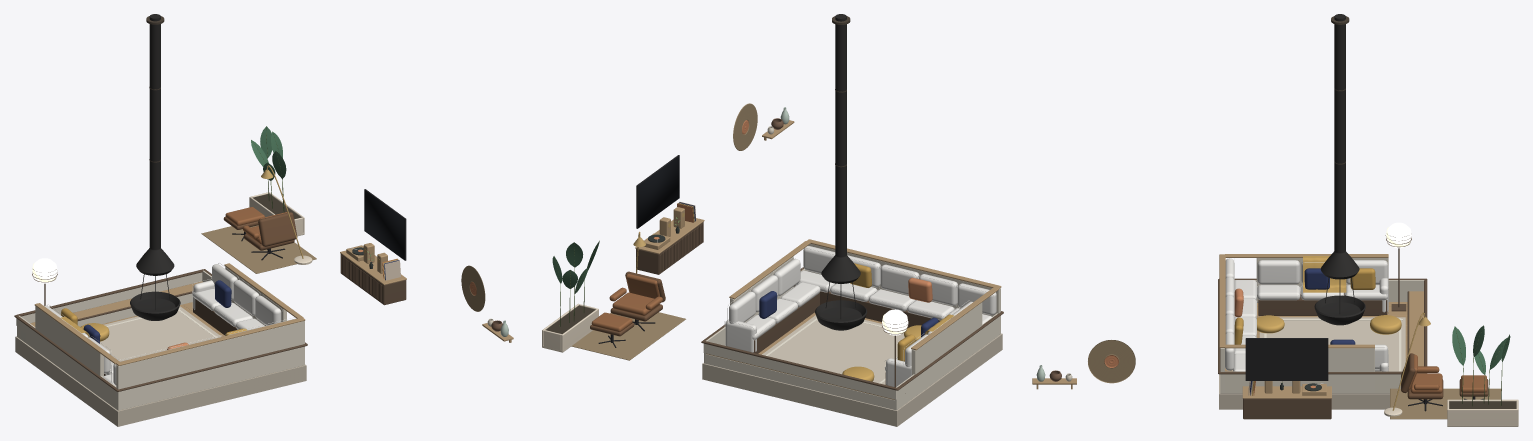
The model's file is room-lounge.glb.
The picture shows the model from 3 angles, left to right: view 1: azimuth 30°, elevation 25°; view 2: azimuth 150°, elevation 25°; view 3: azimuth 270°, elevation 25°; orthographic projection. The views are drawn at different scales.
Parts seen in each view (by area): view 1: lounge__chalk limestone, lounge_placeholder_living-sofa, lounge__warm cut stone, lounge__pale oak, lounge__oatmeal wool textile, lounge__honey ash, lounge__blackened steel flue, lounge_placeholder_living-fireplace, lounge_placeholder_living-eames-lounge, lounge__woven jute, lounge__tv black glass, lounge_refined_botanical__interior Strelitzia broadleaf (+3 smaller); view 2: lounge_placeholder_living-sofa, lounge__chalk limestone, lounge__warm cut stone, lounge__oatmeal wool textile, lounge__pale oak, lounge_placeholder_living-eames-lounge, lounge__honey ash, lounge__blackened steel flue, lounge_placeholder_living-fireplace, lounge__woven jute, lounge__tv black glass, lounge_refined_botanical__honed travertine (+5 smaller); view 3: lounge_placeholder_living-sofa, lounge__chalk limestone, lounge__pale oak, lounge__matte black device, lounge__honey ash, lounge__oatmeal wool textile, lounge__blackened steel flue, lounge_placeholder_living-fireplace, lounge_placeholder_living-eames-lounge, lounge__woven jute, lounge_refined_botanical__honed travertine, lounge_decor woven jute (+5 smaller).
Part boxes in pixels (x1=…): lounge__chalk limestone: x1=16, y1=266, x2=304, y2=410; lounge_placeholder_living-sofa: x1=44, y1=263, x2=295, y2=385; lounge__warm cut stone: x1=15, y1=336, x2=306, y2=426; lounge__pale oak: x1=30, y1=243, x2=406, y2=365; lounge__oatmeal wool textile: x1=100, y1=306, x2=221, y2=361; lounge__honey ash: x1=14, y1=254, x2=406, y2=391; lounge__blackened steel flue: x1=149, y1=14, x2=160, y2=234; lounge_placeholder_living-fireplace: x1=130, y1=232, x2=180, y2=320; lounge_placeholder_living-eames-lounge: x1=223, y1=207, x2=297, y2=260; lounge__woven jute: x1=201, y1=225, x2=316, y2=273; lounge__tv black glass: x1=364, y1=190, x2=404, y2=259; lounge_refined_botanical__interior Strelitzia broadleaf: x1=251, y1=126, x2=286, y2=180; lounge_placeholder_living-sofa: x1=724, y1=246, x2=996, y2=386; lounge__chalk limestone: x1=703, y1=243, x2=1000, y2=410; lounge__warm cut stone: x1=702, y1=333, x2=1002, y2=426; lounge__oatmeal wool textile: x1=762, y1=315, x2=904, y2=384; lounge__pale oak: x1=635, y1=207, x2=1001, y2=399; lounge_placeholder_living-eames-lounge: x1=590, y1=271, x2=665, y2=347; lounge__honey ash: x1=636, y1=222, x2=1003, y2=393; lounge__blackened steel flue: x1=835, y1=14, x2=846, y2=241; lounge_placeholder_living-fireplace: x1=815, y1=239, x2=867, y2=330; lounge__woven jute: x1=571, y1=312, x2=685, y2=360; lounge__tv black glass: x1=638, y1=156, x2=679, y2=228; lounge_refined_botanical__honed travertine: x1=542, y1=303, x2=598, y2=352; lounge_placeholder_living-sofa: x1=1225, y1=256, x2=1388, y2=371; lounge__chalk limestone: x1=1220, y1=258, x2=1424, y2=393; lounge__pale oak: x1=1219, y1=254, x2=1423, y2=398; lounge__matte black device: x1=1245, y1=338, x2=1328, y2=380; lounge__honey ash: x1=1218, y1=234, x2=1427, y2=419; lounge__oatmeal wool textile: x1=1259, y1=317, x2=1405, y2=371; lounge__blackened steel flue: x1=1334, y1=14, x2=1345, y2=237; lounge_placeholder_living-fireplace: x1=1314, y1=235, x2=1365, y2=325; lounge_placeholder_living-eames-lounge: x1=1401, y1=353, x2=1488, y2=411; lounge__woven jute: x1=1390, y1=388, x2=1501, y2=419; lounge_refined_botanical__honed travertine: x1=1447, y1=399, x2=1518, y2=426; lounge_decor woven jute: x1=1088, y1=340, x2=1135, y2=383.
Size of the model in its own units: 6.26 by 6.73 by 8.52.
